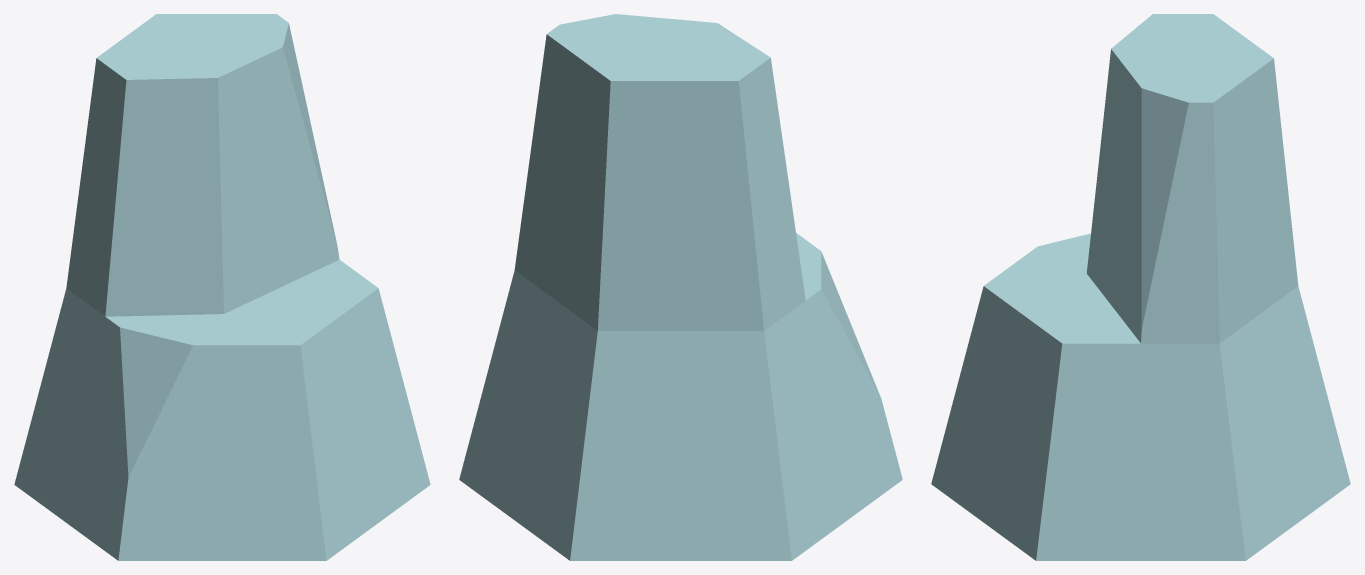
Rendered from stone_tallF.fbx.
3 views of the same model, side by side, from view 1: azimuth 30°, elevation 25°; view 2: azimuth 150°, elevation 25°; view 3: azimuth 270°, elevation 25° (orthographic). The views are drawn at different scales.
Parts seen in each view (by area): view 1: stone_tallF; view 2: stone_tallF; view 3: stone_tallF.
Part boxes in pixels (bbox=[...]): stone_tallF: bbox=[14, 14, 430, 560]; stone_tallF: bbox=[459, 14, 902, 560]; stone_tallF: bbox=[931, 14, 1350, 560].
Bounding box in the file's own units: 4.44 × 5.74 × 5.12.
